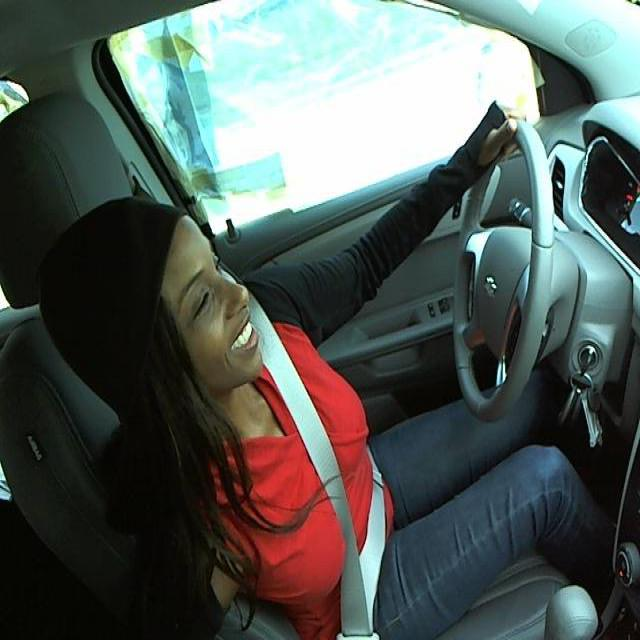seatbelt: (263, 356, 391, 639)
